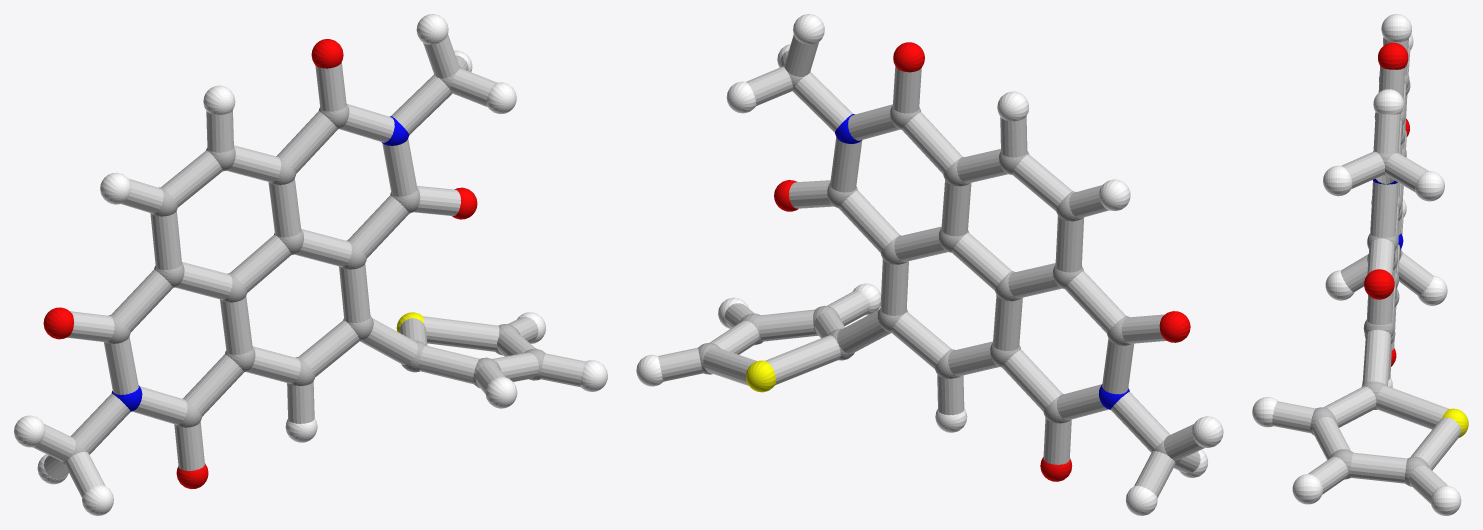
File: Dimethyl_Naphthalene_Dicarboximide_Phi_25_Theta_90_Thiophene.glb
3 renders of one model, left to right at view 1: azimuth 30°, elevation 25°; view 2: azimuth 150°, elevation 25°; view 3: azimuth 270°, elevation 25°, orthographic. The views are drawn at different scales.
Visible parts, largest first — view 1: grp14119, grp7241, grp1, grp12309, grp11585; view 2: grp14119, grp7241, grp1, grp12309, grp13757, grp11585; view 3: grp14119, grp7241, grp1, grp12309, grp13757.
Boxes of the visible parts, <box> form: grp14119: <box>32,34,585,497</box>; grp7241: <box>14,14,607,515</box>; grp1: <box>60,66,545,465</box>; grp12309: <box>43,39,477,488</box>; grp11585: <box>111,116,409,411</box>; grp14119: <box>658,35,1204,498</box>; grp7241: <box>636,14,1223,515</box>; grp1: <box>698,64,1180,464</box>; grp12309: <box>774,42,1190,481</box>; grp13757: <box>746,360,776,392</box>; grp11585: <box>835,114,1129,409</box>; grp14119: <box>1272,37,1461,503</box>; grp7241: <box>1252,14,1461,515</box>; grp1: <box>1310,73,1429,486</box>; grp12309: <box>1364,42,1409,366</box>; grp13757: <box>1442,408,1468,437</box>.
Size of the model in its own units: 12.05 by 8.48 by 4.23.
